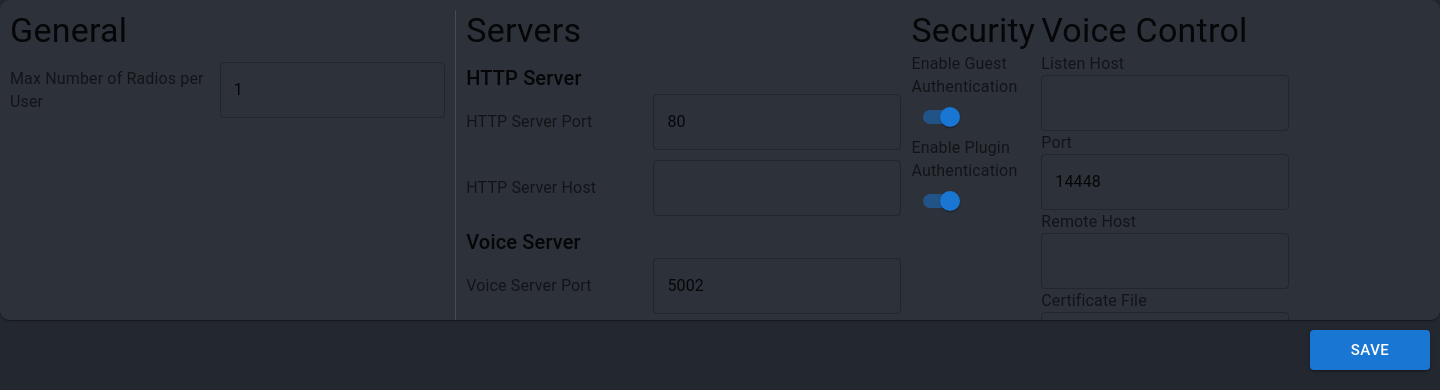
Scenario: SettingsPage › shows a Zod validation error when MaxRadiosPerUser is set to 0
Expected: the text "Max Number of Radios per User" is shown, 10,67 -> 220,113
Step 1. Replace the text in the number field next to "Max Number of Radios per User" with "0" → point(333, 90), box 220,62 -> 445,118
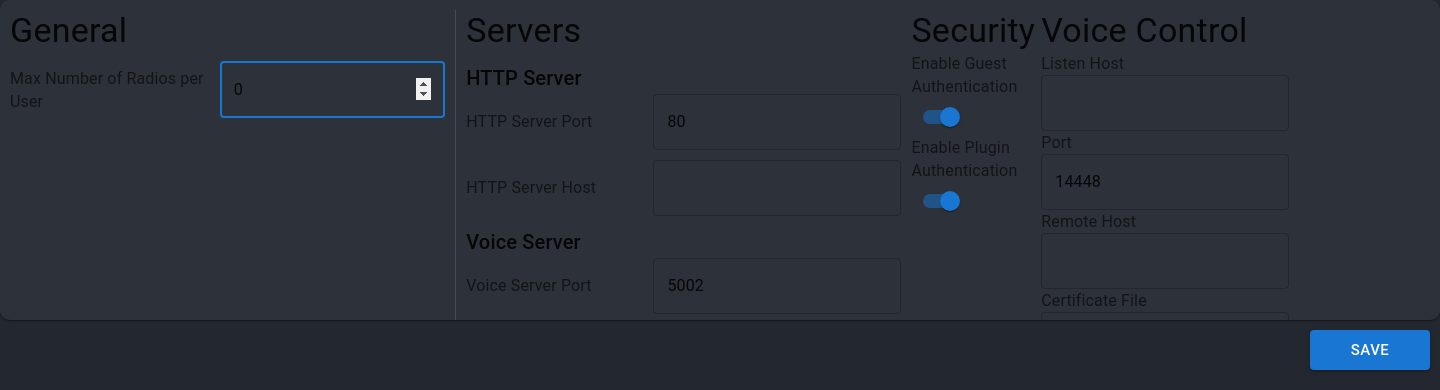
Step 2. Click the button "Save" → point(1370, 350), box 1310,330 -> 1430,370
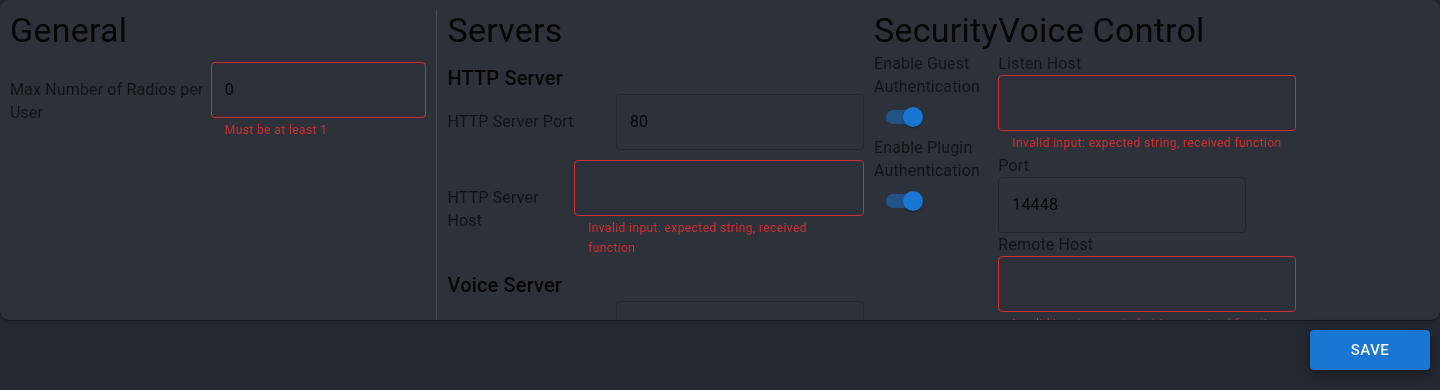
Result: the text "Must be at least 1" is shown at 225,123 -> 327,137
